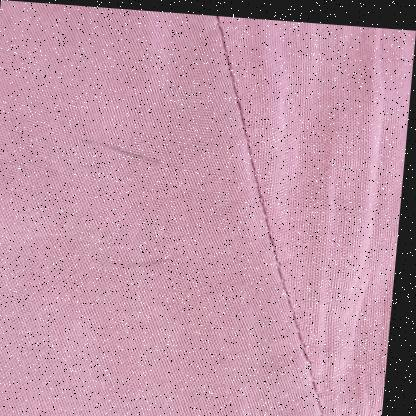spot: (82, 131, 165, 169), (127, 251, 183, 277)
